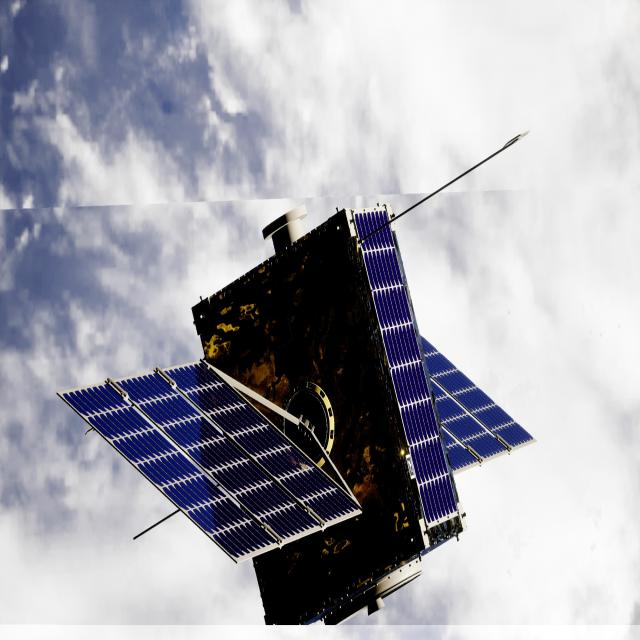medium_debris: (59, 207, 532, 628)
